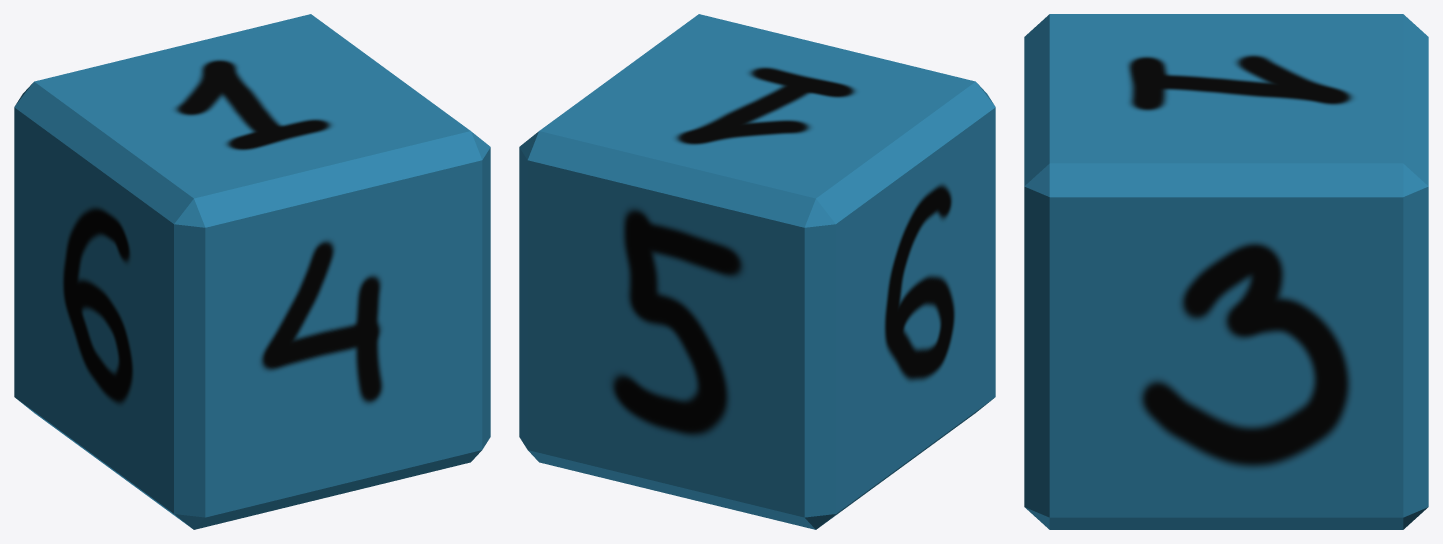
The model's file is d_six.fbx.
The picture shows the model from 3 angles, left to right: view 1: azimuth 30°, elevation 25°; view 2: azimuth 150°, elevation 25°; view 3: azimuth 270°, elevation 25°; orthographic projection. The views are drawn at different scales.
Visible parts, largest first — view 1: Cube; view 2: Cube; view 3: Cube.
Boxes of the visible parts, x1,y1,x2,y2 form: Cube: (14, 14, 490, 529); Cube: (519, 14, 995, 529); Cube: (1024, 14, 1428, 529).
Bounding box in the file's own units: 2 × 2 × 2.
